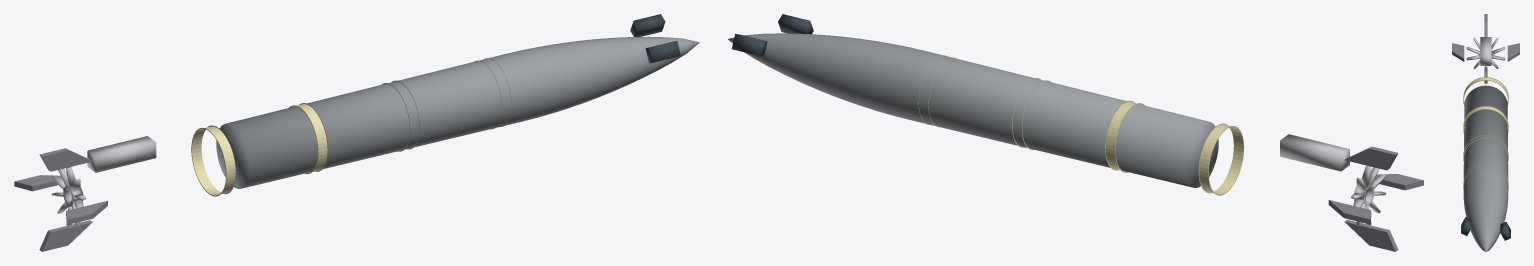
The model's file is US_TORP_Mk48_Mod6_LOD0.fbx.
3 renders of one model, left to right at view 1: azimuth 30°, elevation 25°; view 2: azimuth 150°, elevation 25°; view 3: azimuth 270°, elevation 25°, orthographic. The views are drawn at different scales.
Parts seen in each view (by area): view 1: WPN_US_TORP_Mk48_Mod6_LOD0_Body, WPN_US_TORP_Mk48_Mod6_LOD0_Marking, WPN_US_TORP_Mk48_Mod6_LOD0_Fins, WPN_US_TORP_Mk48_Mod6_LOD0_Detail, WPN_US_TORP_Mk48_Mod6_LOD0_Seeker, WPN_US_TORP_Mk48_Mod6_LOD0_Propulsor; view 2: WPN_US_TORP_Mk48_Mod6_LOD0_Body, WPN_US_TORP_Mk48_Mod6_LOD0_Marking, WPN_US_TORP_Mk48_Mod6_LOD0_Fins, WPN_US_TORP_Mk48_Mod6_LOD0_Detail, WPN_US_TORP_Mk48_Mod6_LOD0_Seeker, WPN_US_TORP_Mk48_Mod6_LOD0_Propulsor; view 3: WPN_US_TORP_Mk48_Mod6_LOD0_Body, WPN_US_TORP_Mk48_Mod6_LOD0_Marking, WPN_US_TORP_Mk48_Mod6_LOD0_Fins, WPN_US_TORP_Mk48_Mod6_LOD0_Propulsor, WPN_US_TORP_Mk48_Mod6_LOD0_Detail, WPN_US_TORP_Mk48_Mod6_LOD0_Seeker.
Boxes of the visible parts, left/top/right/bottom form: WPN_US_TORP_Mk48_Mod6_LOD0_Body: left=216, top=36, right=699, bottom=188; WPN_US_TORP_Mk48_Mod6_LOD0_Marking: left=191, top=58, right=511, bottom=196; WPN_US_TORP_Mk48_Mod6_LOD0_Fins: left=14, top=148, right=107, bottom=251; WPN_US_TORP_Mk48_Mod6_LOD0_Detail: left=87, top=136, right=156, bottom=172; WPN_US_TORP_Mk48_Mod6_LOD0_Seeker: left=630, top=14, right=680, bottom=63; WPN_US_TORP_Mk48_Mod6_LOD0_Propulsor: left=51, top=167, right=86, bottom=226; WPN_US_TORP_Mk48_Mod6_LOD0_Body: left=728, top=33, right=1218, bottom=187; WPN_US_TORP_Mk48_Mod6_LOD0_Marking: left=918, top=55, right=1244, bottom=195; WPN_US_TORP_Mk48_Mod6_LOD0_Fins: left=1328, top=146, right=1423, bottom=251; WPN_US_TORP_Mk48_Mod6_LOD0_Detail: left=1280, top=134, right=1349, bottom=171; WPN_US_TORP_Mk48_Mod6_LOD0_Seeker: left=731, top=14, right=813, bottom=56; WPN_US_TORP_Mk48_Mod6_LOD0_Propulsor: left=1351, top=165, right=1386, bottom=226; WPN_US_TORP_Mk48_Mod6_LOD0_Body: left=1463, top=85, right=1508, bottom=251; WPN_US_TORP_Mk48_Mod6_LOD0_Marking: left=1463, top=77, right=1508, bottom=189; WPN_US_TORP_Mk48_Mod6_LOD0_Fins: left=1452, top=14, right=1519, bottom=83; WPN_US_TORP_Mk48_Mod6_LOD0_Propulsor: left=1466, top=37, right=1505, bottom=72; WPN_US_TORP_Mk48_Mod6_LOD0_Detail: left=1480, top=37, right=1491, bottom=65; WPN_US_TORP_Mk48_Mod6_LOD0_Seeker: left=1461, top=217, right=1510, bottom=240.
Size of the model in its own units: 5.81 by 0.8049 by 0.8049.
